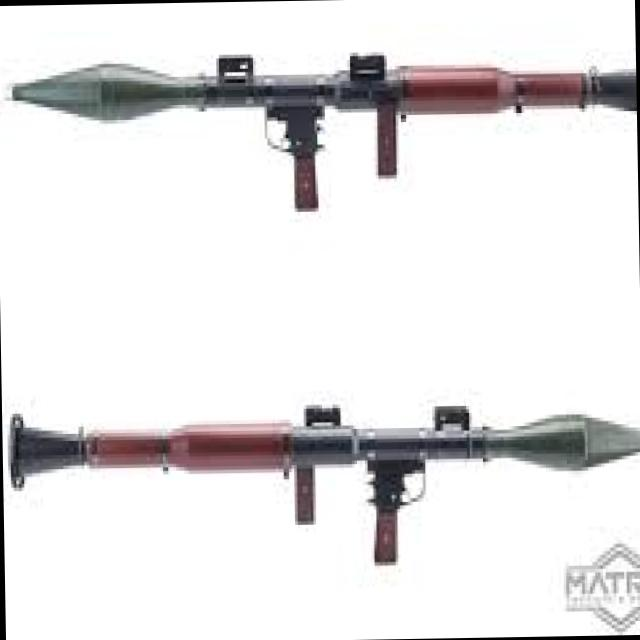Gun: (0, 8, 638, 216), (0, 349, 640, 529)
